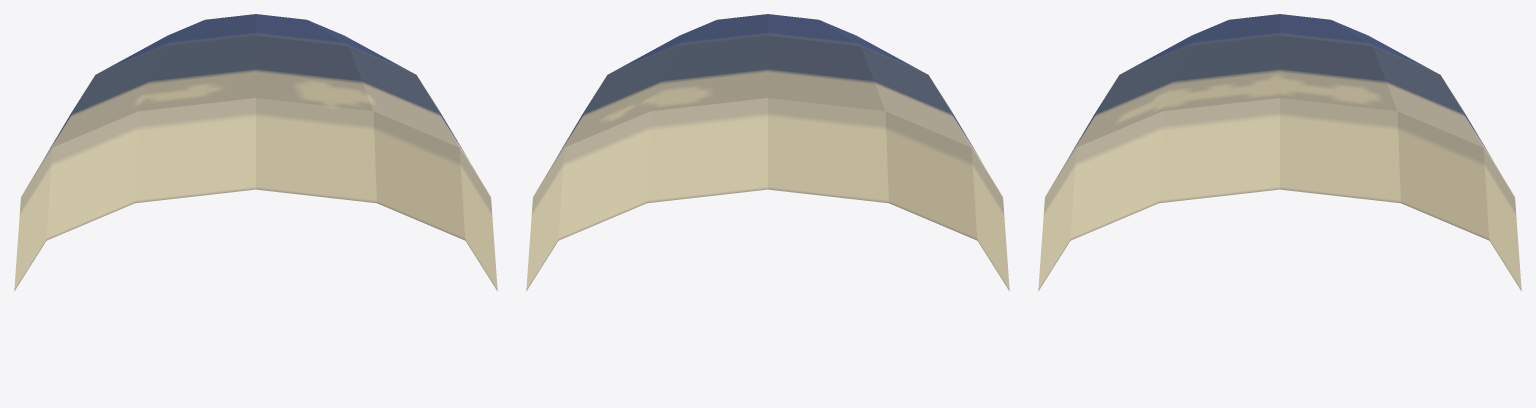
Rendered from sky.backdrop.glb.
The picture shows the model from 3 angles, left to right: view 1: azimuth 30°, elevation 25°; view 2: azimuth 150°, elevation 25°; view 3: azimuth 270°, elevation 25°; orthographic projection.
Parts seen in each view (by area): view 1: kit_shell_sky; view 2: kit_shell_sky; view 3: kit_shell_sky.
Boxes of the visible parts, box(x1,y1,x2,y2) form: kit_shell_sky: box(14, 14, 497, 290); kit_shell_sky: box(526, 14, 1009, 290); kit_shell_sky: box(1038, 14, 1521, 290).
Bounding box in the file's own units: 791 × 460 × 791.
1 material, 1 textured.
